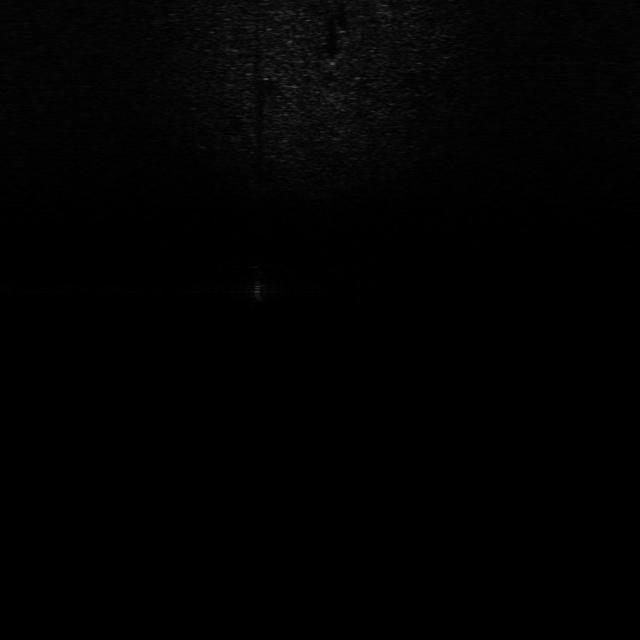human body: (238, 264, 276, 310)
